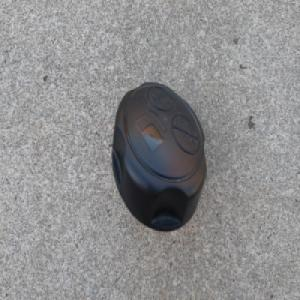FuelCap: (110, 80, 206, 233)
